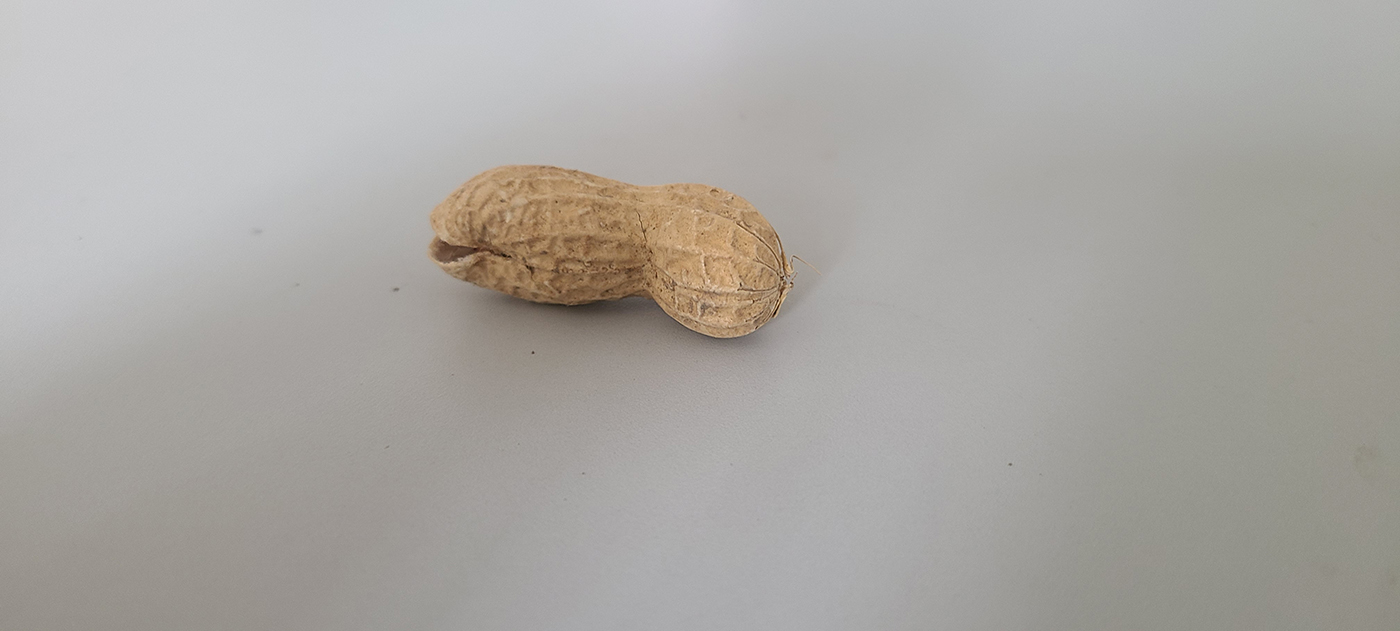h: (424, 161, 794, 342)
